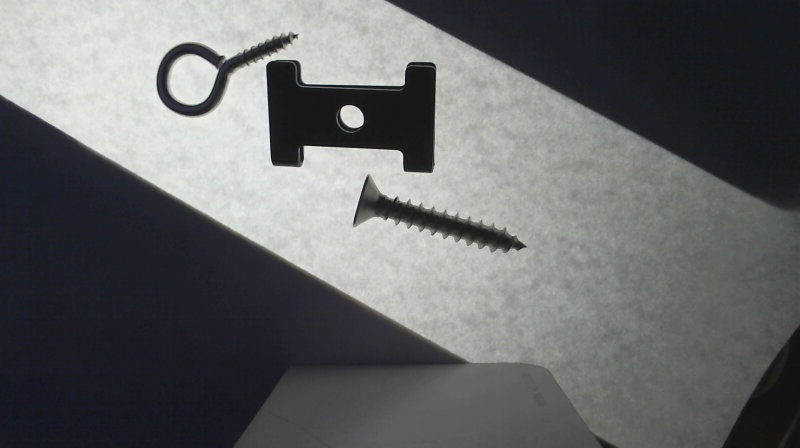O001: (154, 30, 299, 117)
O002: (265, 57, 439, 173)
S001: (351, 173, 526, 253)
